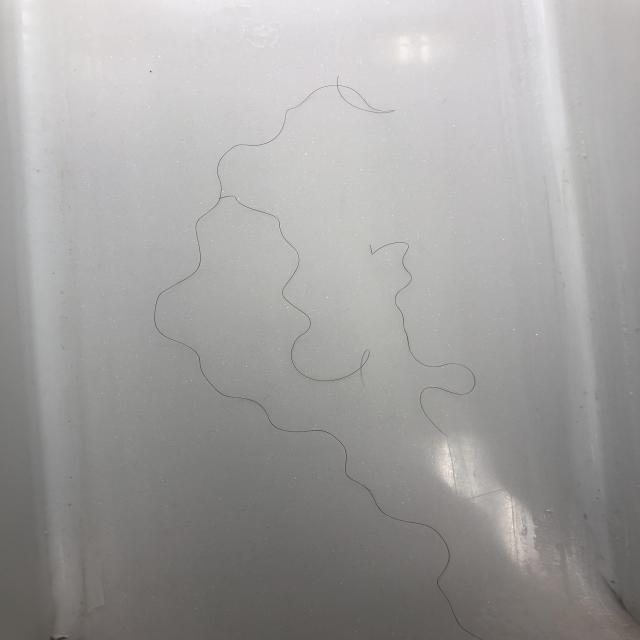hair: (155, 60, 488, 638)
